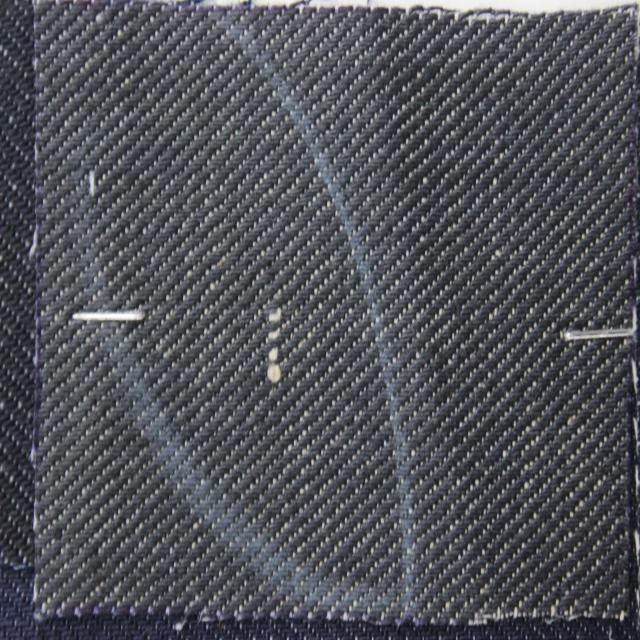pulled_or_thick_thread: (265, 297, 287, 382)
